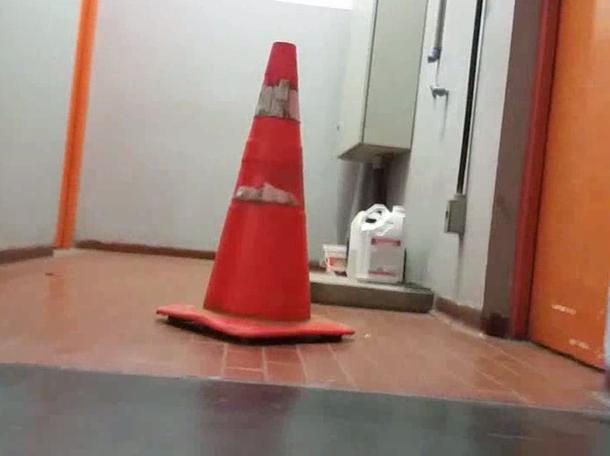0 cone: (156, 42, 355, 339)
